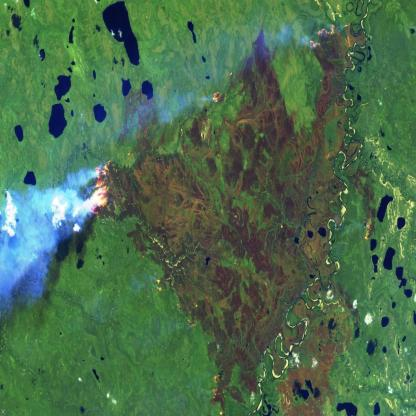fire: (84, 155, 113, 224), (305, 17, 355, 57), (207, 367, 228, 416), (147, 272, 170, 297), (210, 83, 228, 110)
